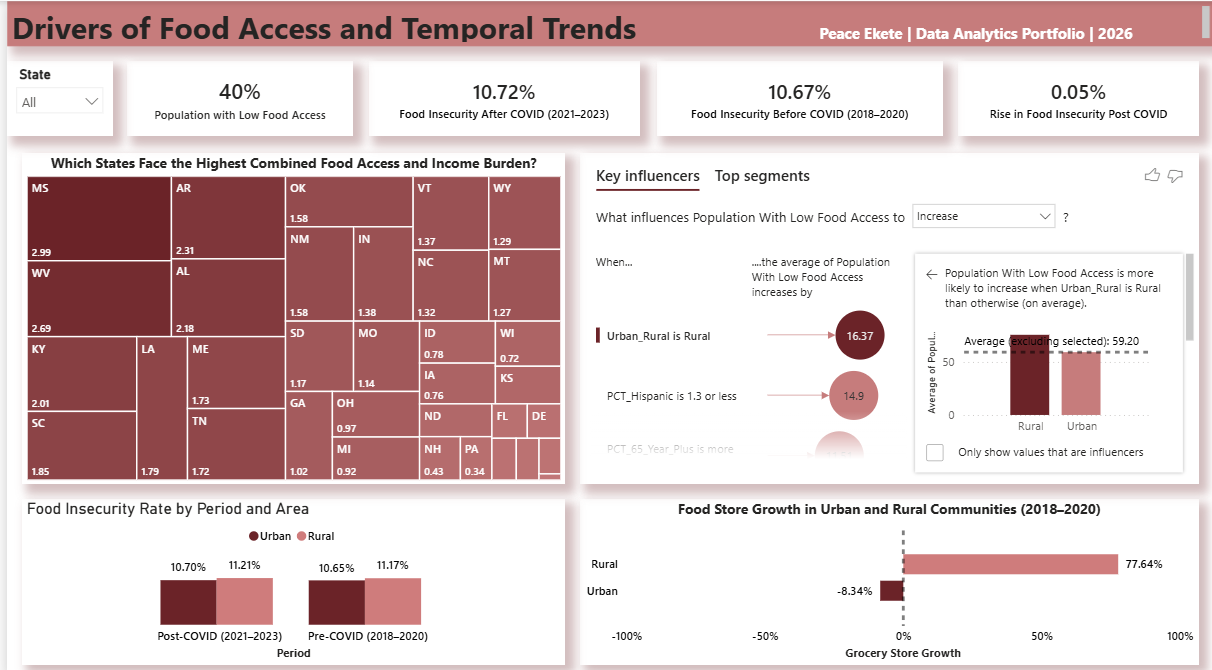

The dashboard page shown, as its layout file describes it:
{"tool":"powerbi","page":{"name":"Page 5_food_access_trends","canvas":[1280,720],"ordinal":4},"visuals":[{"type":"slicer","fields":{"Values":["State_Lookup.State_Full"]},"box":[0,64,112,80],"z":0},{"type":"clusteredColumnChart","fields":{"Series":["master_county_final.Urban_Rural"],"Category":["Time_Period.Period"],"Y":["Time_Period.FI_By_Period"]},"box":[16,528,576,176],"z":1000},{"type":"clusteredBarChart","title":"Food Store Growth in Urban and Rural Communities (2018–2020)","fields":{"Category":["Store Growth.Area"],"Y":["Store Growth.Store_Growth"]},"box":[608,528,656,176],"z":2000},{"type":"cardVisual","fields":{"Data":["master_county_final.National_FI_Change"]},"box":[1008,64,256,80],"z":3000},{"type":"keyDriversVisual","fields":{"Target":["master_county_final.PCT_Low_Access_1Mile"],"ExplainBy":["master_county_final.PCT_Poverty","master_county_final.PCT_Hispanic","master_county_final.PCT_Black","master_county_final.PCT_Uninsured","master_county_final.Median_HH_Income","master_county_final.Urban_Rural","master_county_final.PCT_65_Year_Plus"]},"box":[608,160,656,352],"z":4000},{"type":"treemap","title":"Which States Face the Highest Combined Food Access and Income Burden?","fields":{"Values":["master_county_final.Access-Income Burden"],"Group":["master_county_final.State"]},"box":[16,160,576,352],"z":5000},{"type":"cardVisual","fields":{"Data":["master_county_final.Post_COVID_FI"]},"box":[384,64,288,80],"z":6000},{"type":"cardVisual","fields":{"Data":["master_county_final.Pre_COVID_FI"]},"box":[688,64,304,80],"z":7000},{"type":"cardVisual","fields":{"Data":["master_county_final.Weighted_Avg_LowFoodAccess"]},"box":[128,64,240,80],"z":8000},{"type":"textbox","box":[0,0,1280,48],"z":9000}]}

Visuals, with their boxes in screenshot pixels (x1, y1, x2, y2), scaled from the page's 1280x720 canvas onto the 1212x670 screenshot:
slicer - State_Lookup.State_Full: crop(0, 60, 106, 134)
clusteredColumnChart - master_county_final.Urban_Rural x Time_Period.Period: crop(15, 491, 561, 655)
"Food Store Growth in Urban and Rural Communities (2018–2020)" clusteredBarChart: crop(576, 491, 1197, 655)
cardVisual - master_county_final.National_FI_Change: crop(954, 60, 1197, 134)
keyDriversVisual - master_county_final.PCT_Low_Access_1Mile x master_county_final.PCT_Poverty: crop(576, 149, 1197, 476)
"Which States Face the Highest Combined Food Access and Income Burden?" treemap: crop(15, 149, 561, 476)
cardVisual - master_county_final.Post_COVID_FI: crop(364, 60, 636, 134)
cardVisual - master_county_final.Pre_COVID_FI: crop(651, 60, 939, 134)
cardVisual - master_county_final.Weighted_Avg_LowFoodAccess: crop(121, 60, 348, 134)
textbox: crop(0, 0, 1211, 45)
